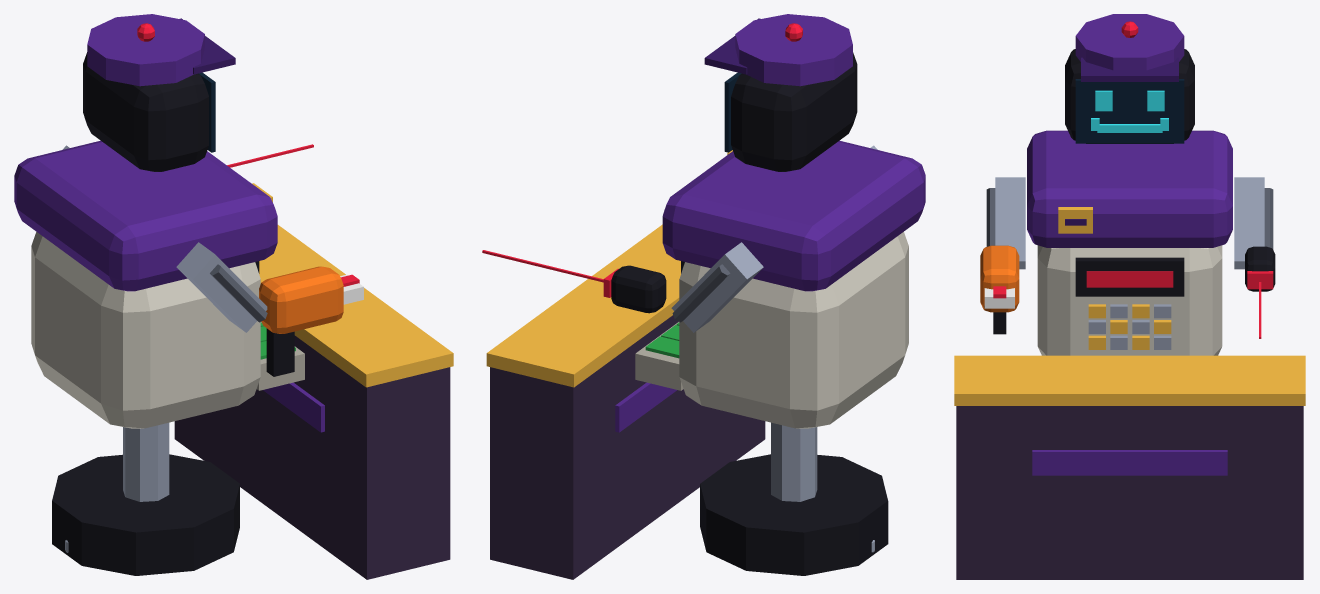
Rendered from gerant_nuit.glb.
The picture shows the model from 3 angles, left to right: view 1: azimuth 30°, elevation 25°; view 2: azimuth 150°, elevation 25°; view 3: azimuth 270°, elevation 25°; orthographic projection. The views are drawn at different scales.
Visible parts, largest first — view 1: p_box.5001, p_rbox.1461, p_rbox.1462, p_cyl.971, p_box.5002, p_rbox.1463, p_cyl.973, p_rbox.1464, p_cyl.972, p_box.4994, p_box.5003, p_box.4996 (+4 smaller); view 2: p_box.5001, p_rbox.1461, p_rbox.1462, p_cyl.971, p_box.5002, p_rbox.1463, p_cyl.973, p_cyl.972, p_box.4995, p_rbox.1465, p_box.4980, p_box.5003 (+3 smaller); view 3: p_box.5001, p_rbox.1462, p_box.5002, p_rbox.1461, p_box.4987, p_box.5003, p_cyl.973, p_box.4966, p_box.4995, p_box.4994, p_rbox.1463, p_rbox.1464 (+9 smaller).
Boxes of the visible parts, bbox=[...] form: p_box.5001: bbox=[174, 335, 450, 579]; p_rbox.1461: bbox=[31, 232, 260, 428]; p_rbox.1462: bbox=[14, 140, 277, 291]; p_cyl.971: bbox=[52, 454, 239, 575]; p_box.5002: bbox=[259, 225, 453, 387]; p_rbox.1463: bbox=[83, 52, 208, 171]; p_cyl.973: bbox=[87, 14, 204, 86]; p_rbox.1464: bbox=[259, 266, 343, 333]; p_cyl.972: bbox=[123, 422, 169, 501]; p_box.4994: bbox=[176, 242, 267, 332]; p_box.5003: bbox=[263, 382, 324, 432]; p_box.4996: bbox=[266, 328, 294, 376]; p_box.5001: bbox=[490, 315, 765, 579]; p_rbox.1461: bbox=[679, 232, 908, 428]; p_rbox.1462: bbox=[662, 140, 925, 291]; p_cyl.971: bbox=[700, 454, 888, 575]; p_box.5002: bbox=[486, 224, 680, 387]; p_rbox.1463: bbox=[731, 52, 857, 171]; p_cyl.973: bbox=[735, 14, 852, 86]; p_cyl.972: bbox=[771, 422, 817, 501]; p_box.4995: bbox=[671, 242, 763, 332]; p_rbox.1465: bbox=[611, 265, 666, 313]; p_box.4980: bbox=[635, 322, 683, 390]; p_box.5003: bbox=[615, 382, 676, 432]; p_box.5001: bbox=[956, 406, 1303, 579]; p_rbox.1462: bbox=[1027, 130, 1232, 247]; p_box.5002: bbox=[954, 355, 1305, 405]; p_rbox.1461: bbox=[1037, 245, 1222, 355]; p_box.4987: bbox=[1075, 79, 1184, 143]; p_box.5003: bbox=[1032, 450, 1227, 475]; p_cyl.973: bbox=[1075, 14, 1184, 70]; p_box.4966: bbox=[1075, 257, 1184, 296]; p_box.4995: bbox=[1234, 177, 1264, 269]; p_box.4994: bbox=[995, 177, 1025, 269]; p_rbox.1463: bbox=[1065, 49, 1194, 143]; p_rbox.1464: bbox=[980, 245, 1019, 312].
Size of the model in its own units: 1.55 by 2.38 by 1.62.
